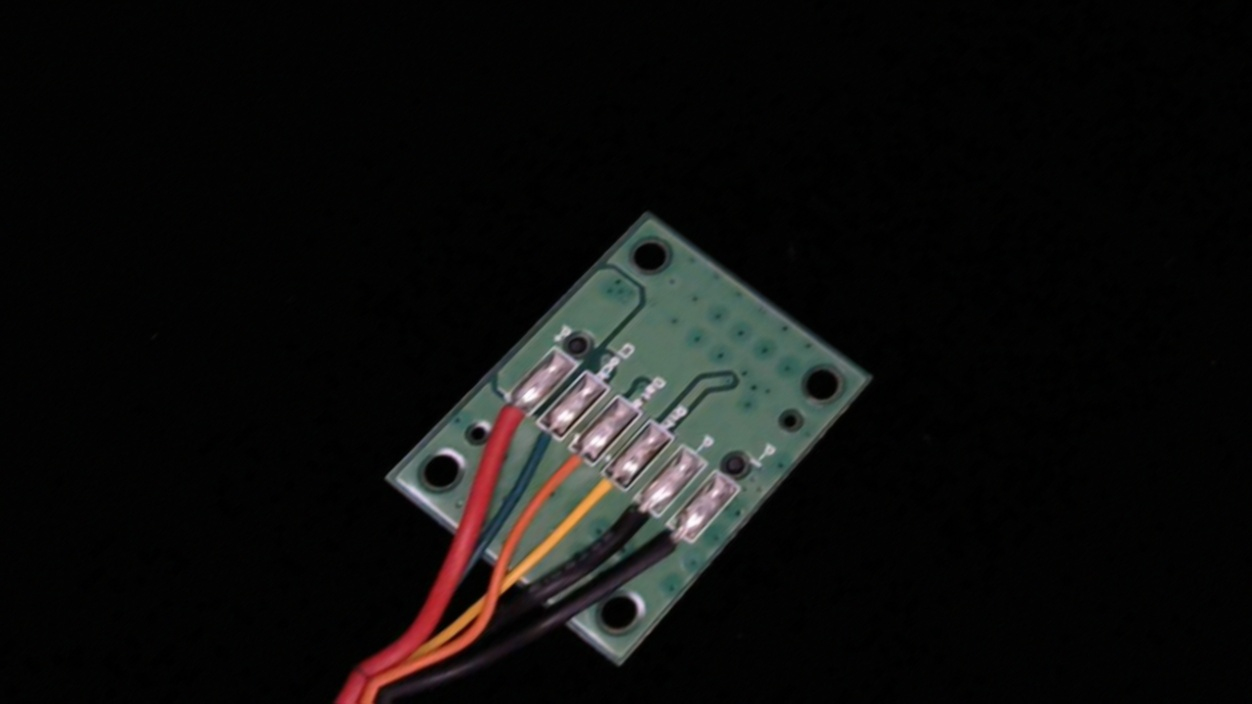Black: (583, 479, 676, 566)
Black1: (625, 509, 712, 591)
Green: (501, 408, 577, 474)
Orange: (517, 431, 608, 514)
Red: (457, 378, 549, 460)
Yellow: (547, 455, 641, 542)
